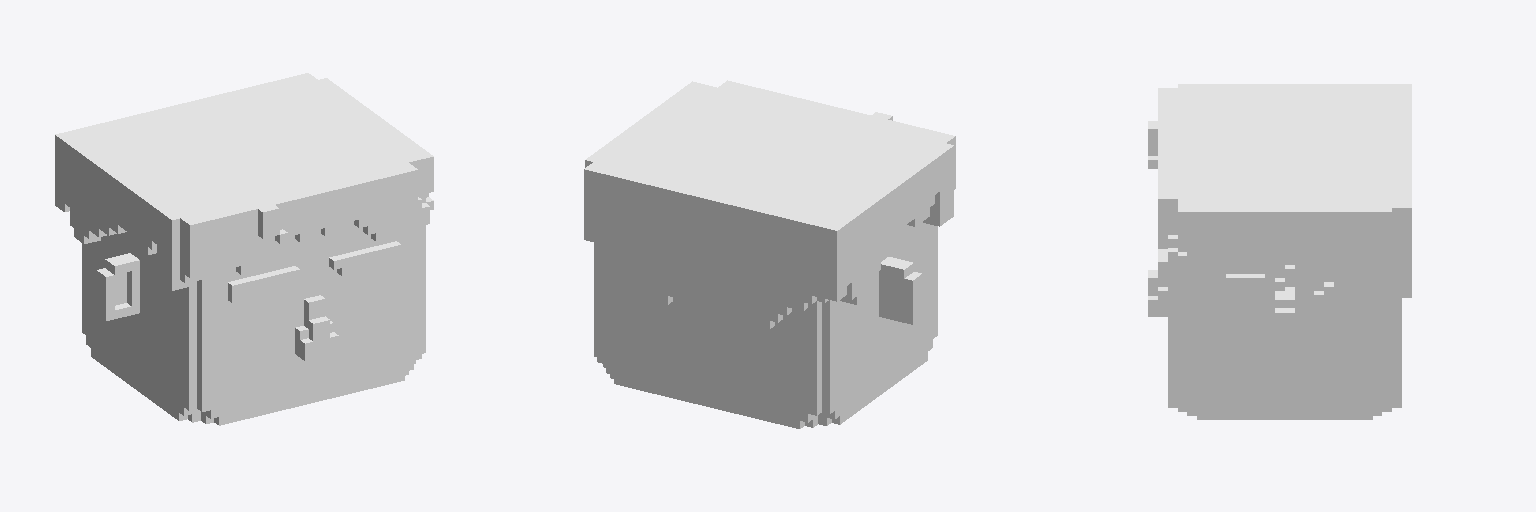
File: Guard2_Head.obj
The picture shows the model from 3 angles: view 1: azimuth 30°, elevation 25°; view 2: azimuth 150°, elevation 25°; view 3: azimuth 270°, elevation 25°; orthographic projection.
Size of the model in its own units: 36 by 24 by 27.